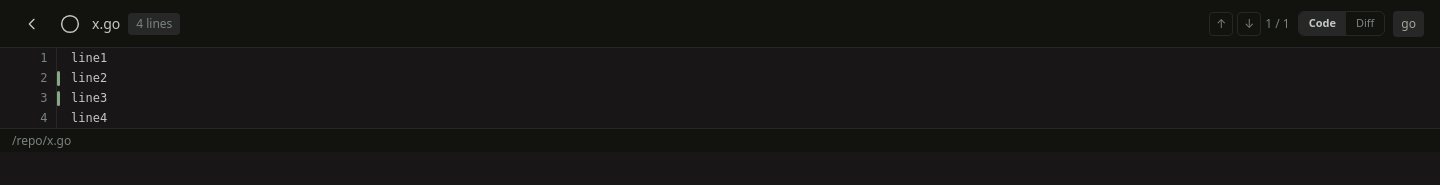
Test case: CodeEditor git gutter › toggles between Code and Diff views
Click the element with test id "code-diff-toggle": (1341, 24) x1=1298 y1=11 x2=1385 y2=36
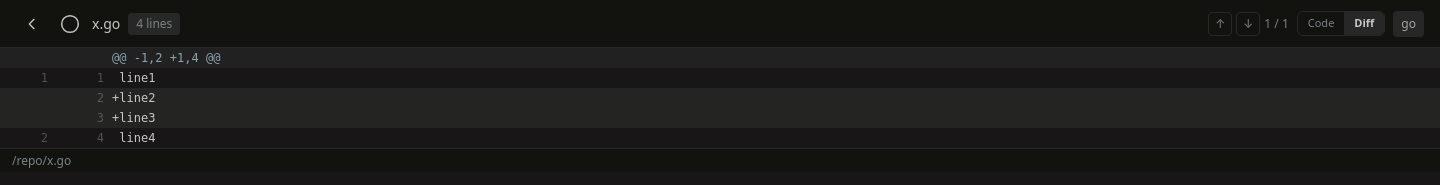
Now the element with test id "code-diff-view" shows "+line2", box x1=0 y1=48 x2=1439 y2=148
